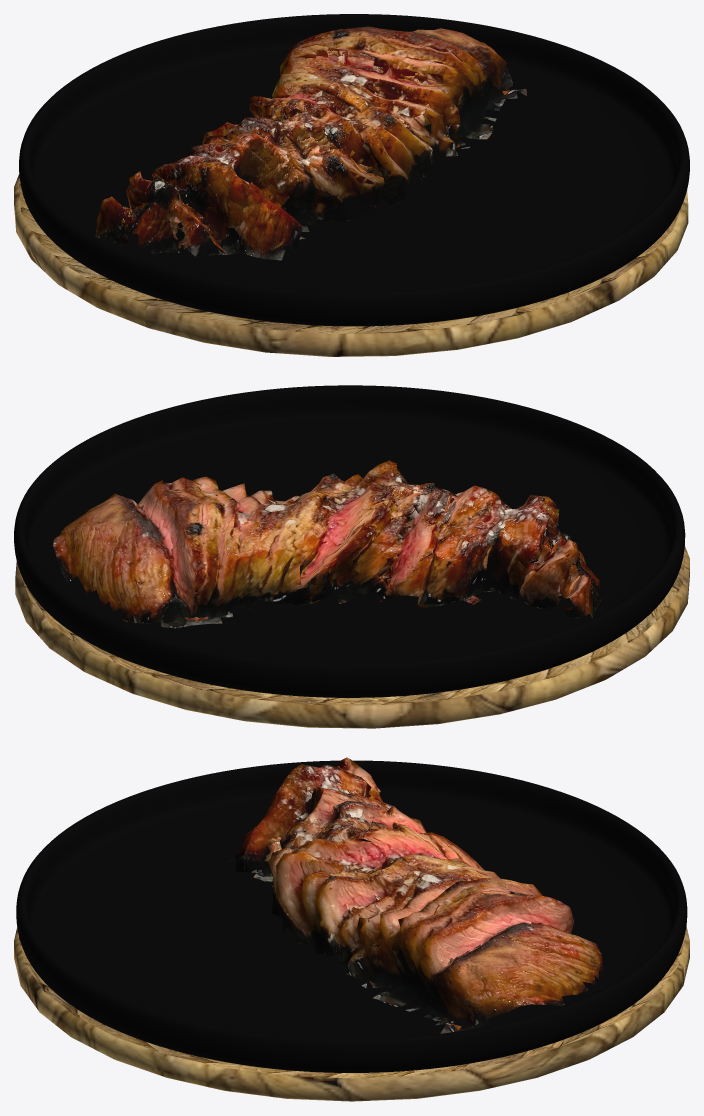
The model's file is picanha.glb.
3 renders of one model, top to bottom at view 1: azimuth 30°, elevation 25°; view 2: azimuth 150°, elevation 25°; view 3: azimuth 270°, elevation 25°, orthographic.
Parts seen in each view (by area): view 1: base_2, picanha_low_3, salvamanteles_4; view 2: base_2, picanha_low_3, salvamanteles_4; view 3: base_2, picanha_low_3, salvamanteles_4.
Part boxes in pixels (x1=…): base_2: x1=19, y1=14, x2=689, y2=326; picanha_low_3: x1=95, y1=26, x2=526, y2=260; salvamanteles_4: x1=14, y1=174, x2=688, y2=356; base_2: x1=14, y1=385, x2=685, y2=697; picanha_low_3: x1=53, y1=460, x2=601, y2=628; salvamanteles_4: x1=15, y1=546, x2=689, y2=728; base_2: x1=16, y1=760, x2=687, y2=1072; picanha_low_3: x1=229, y1=757, x2=603, y2=1033; salvamanteles_4: x1=14, y1=926, x2=689, y2=1101.
Bounding box in the file's own units: 0.1915 × 0.0371 × 0.1911.
3 materials, 2 textured.
